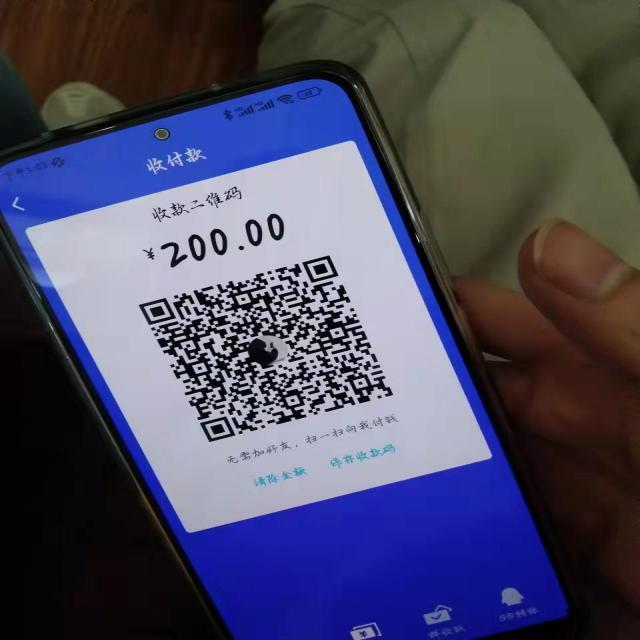qr_code: (138, 255, 394, 443)
